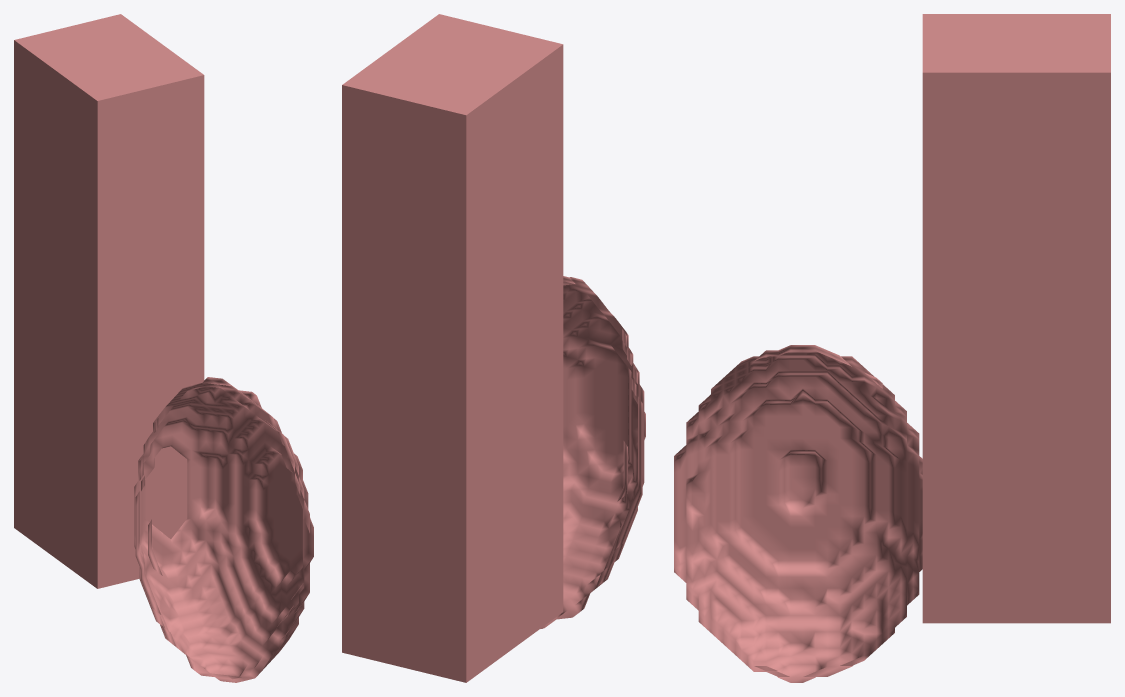
The model's file is 199526_occ.glb.
3 renders of one model, left to right at view 1: azimuth 30°, elevation 25°; view 2: azimuth 150°, elevation 25°; view 3: azimuth 270°, elevation 25°, orthographic. The views are drawn at different scales.
Visible parts, largest first — view 1: world; view 2: world; view 3: world.
Part boxes in pixels (x1,y1,x2,y2): world: [14, 14, 313, 682]; world: [342, 14, 645, 682]; world: [674, 14, 1110, 682].
Size of the model in its own units: 1.43 by 5.61 by 3.56.
